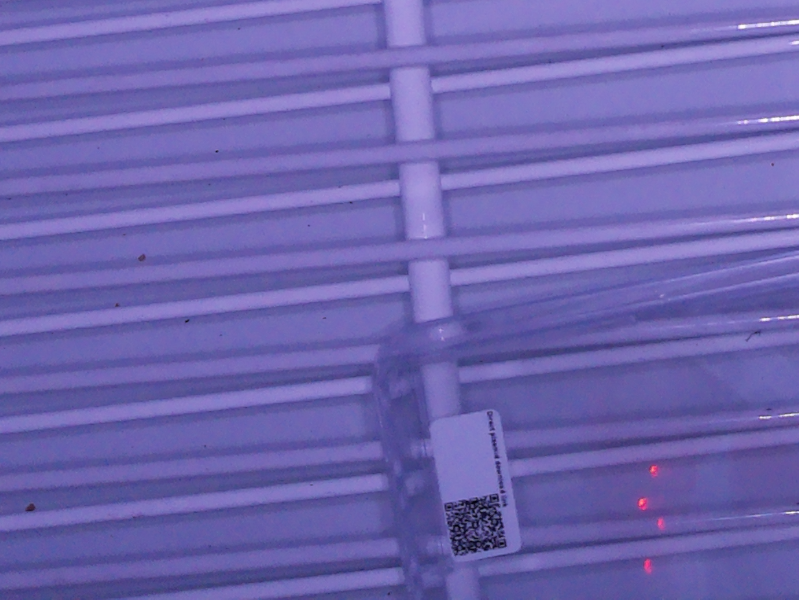plate: (373, 247, 799, 600)
